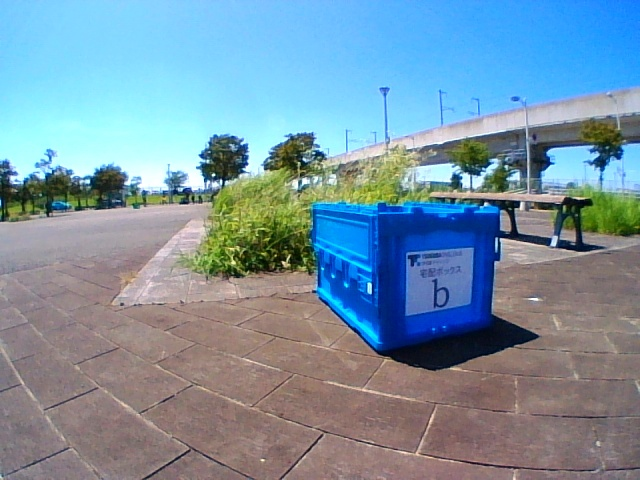blue_box: (341, 211, 489, 322)
tag_b: (418, 266, 456, 308)
